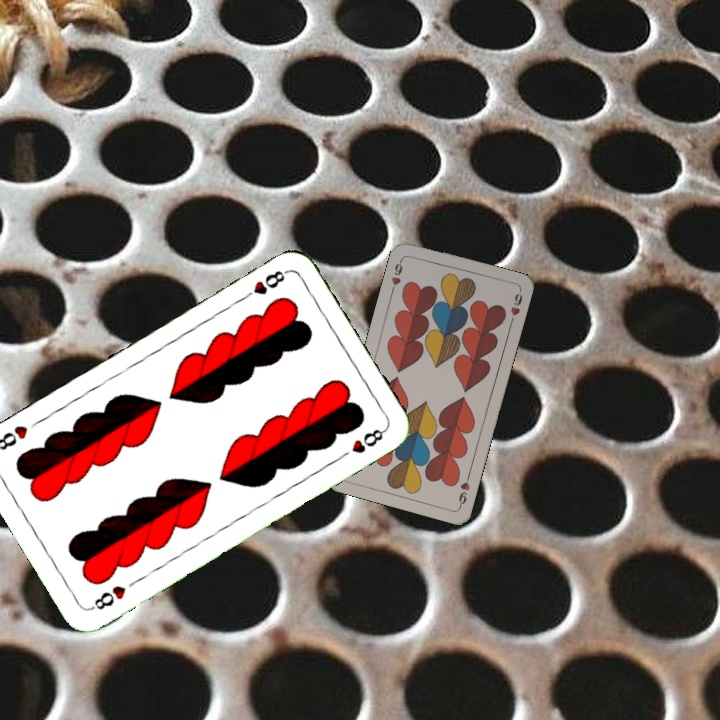H8: (238, 265, 291, 303), (87, 581, 129, 613)
H9: (455, 469, 473, 509), (387, 255, 405, 295)
